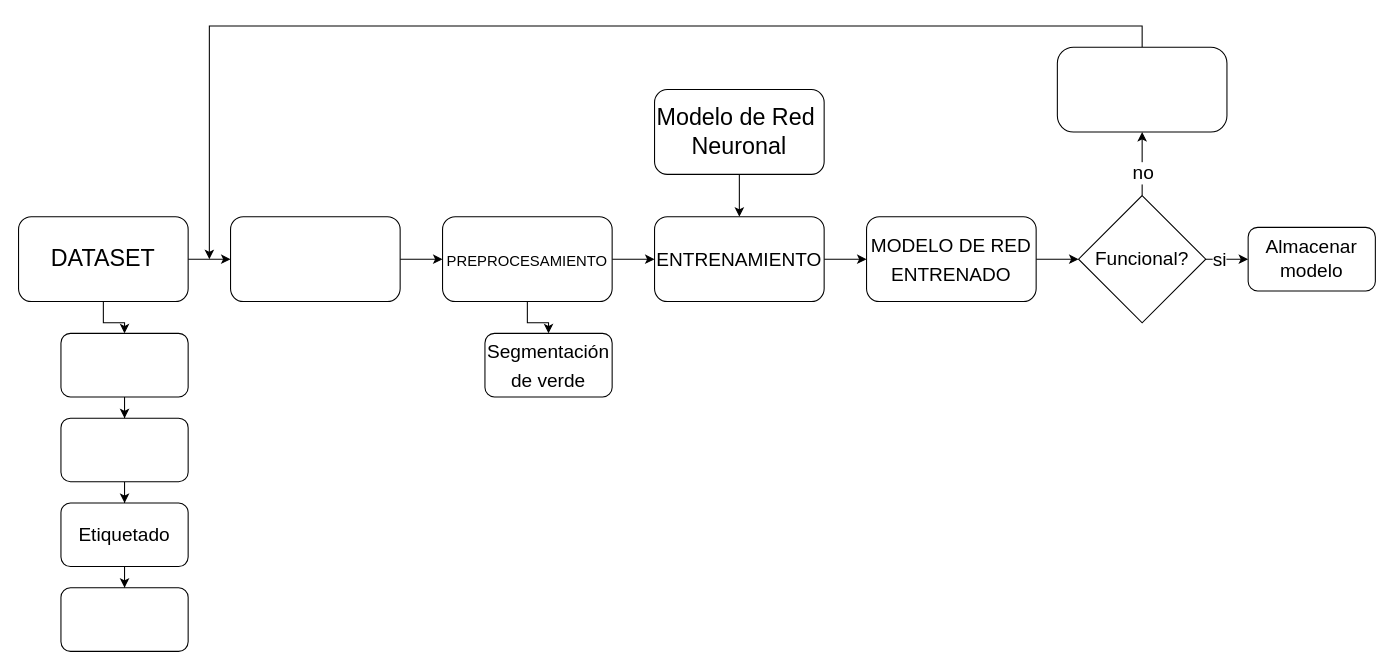
Image size: 1394x670. Some labels were removed from this diagram. Each missing label, with the box of its shape:
Aleatorizar datos: (229, 216, 400, 302)
Datos aleatorizables: (60, 587, 188, 651)
Replantear modelo de red: (1056, 46, 1227, 132)
Simulación de surcos: (60, 332, 188, 397)
Toma de imágenes: (60, 417, 188, 482)
